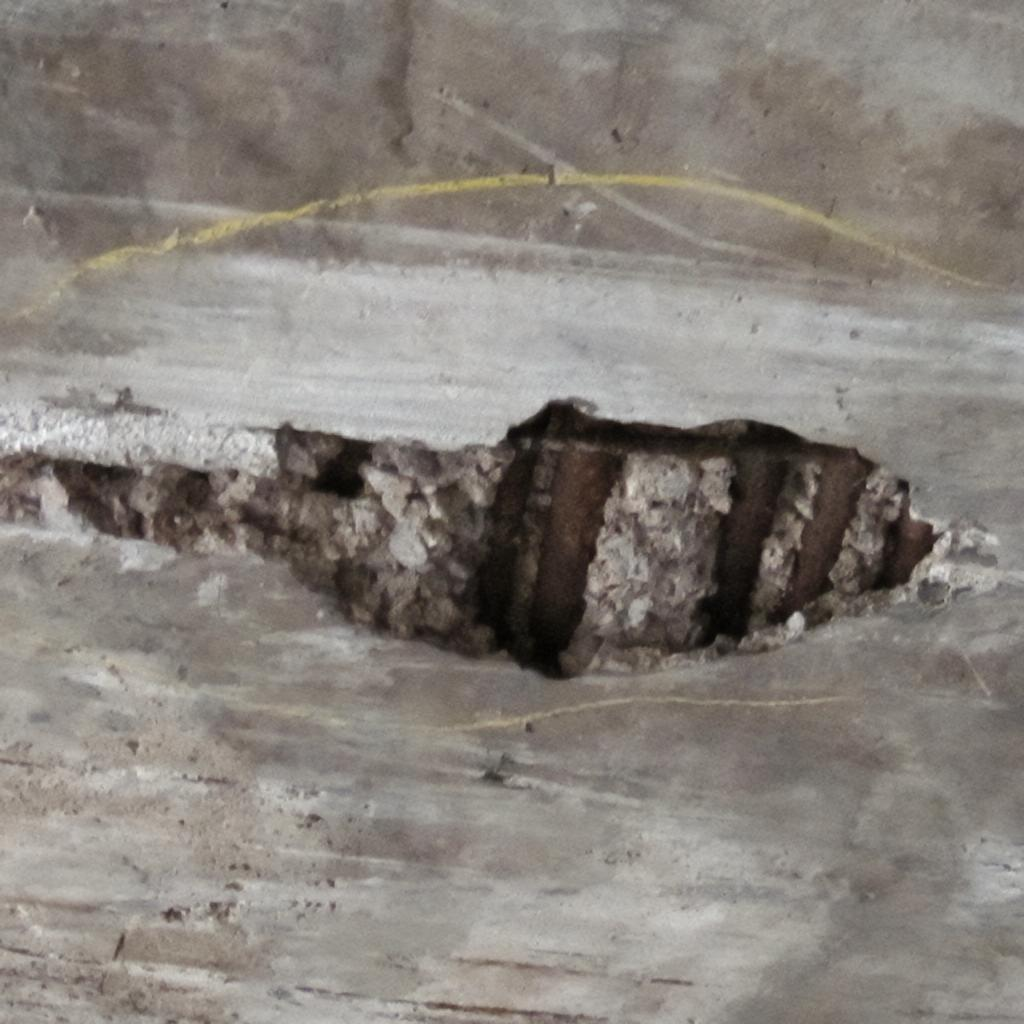exposed_rebar: (530, 448, 620, 673), (774, 448, 872, 620), (702, 450, 788, 639), (478, 448, 538, 647), (874, 494, 938, 588)
spalling: (0, 402, 1024, 676)
